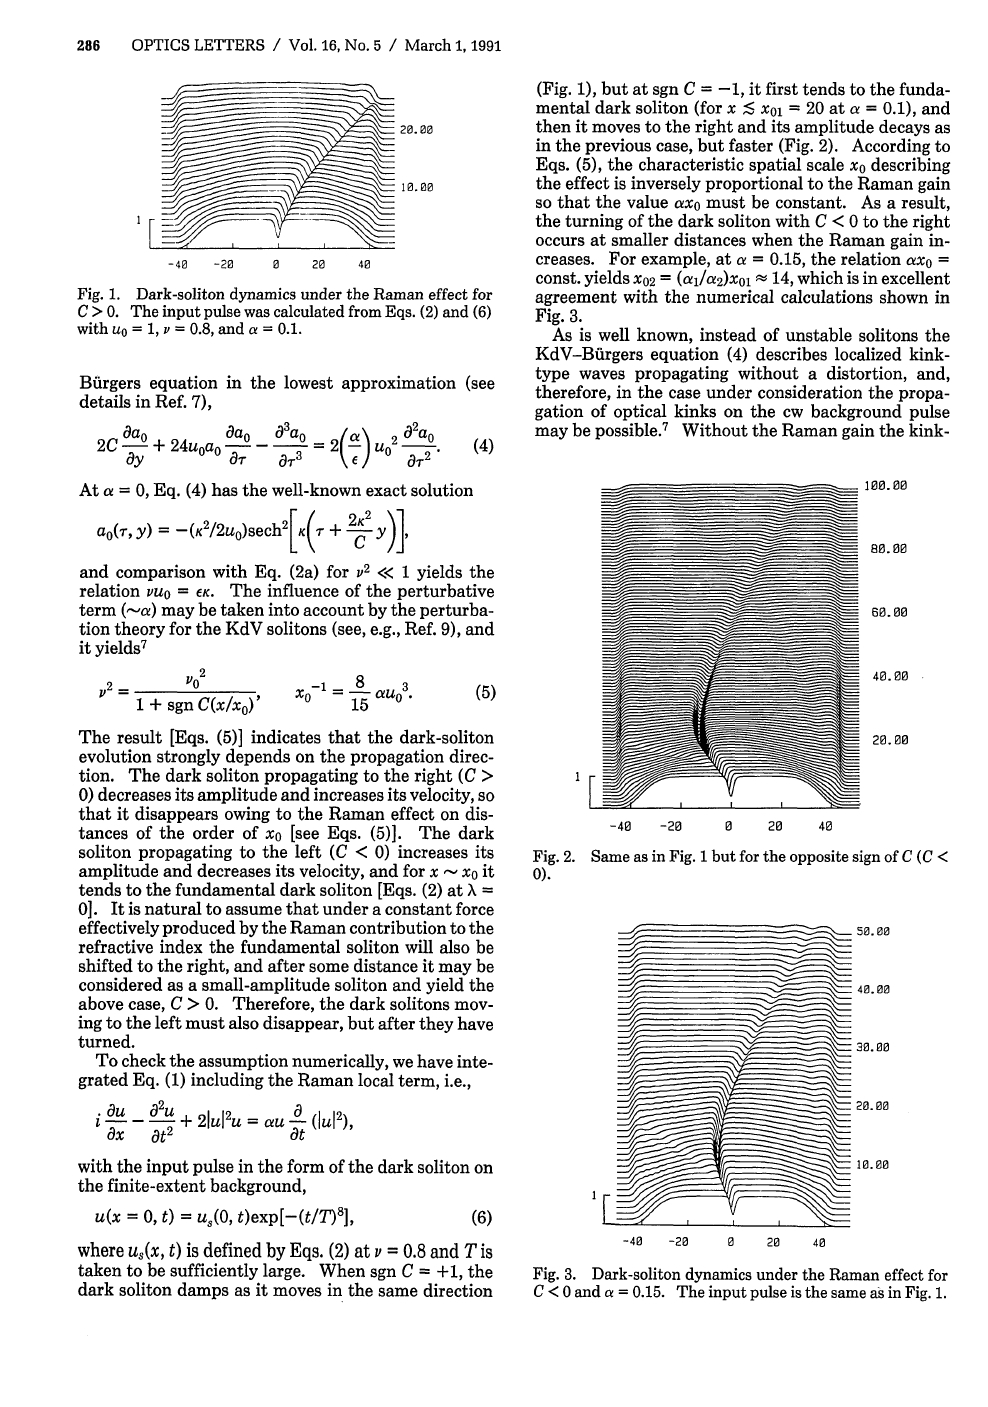figure: (575, 480, 923, 830), (592, 923, 908, 1246), (137, 81, 432, 268)
formula: (97, 421, 493, 469), (99, 667, 495, 715), (97, 507, 407, 554), (96, 1098, 352, 1143), (95, 1205, 491, 1227)
